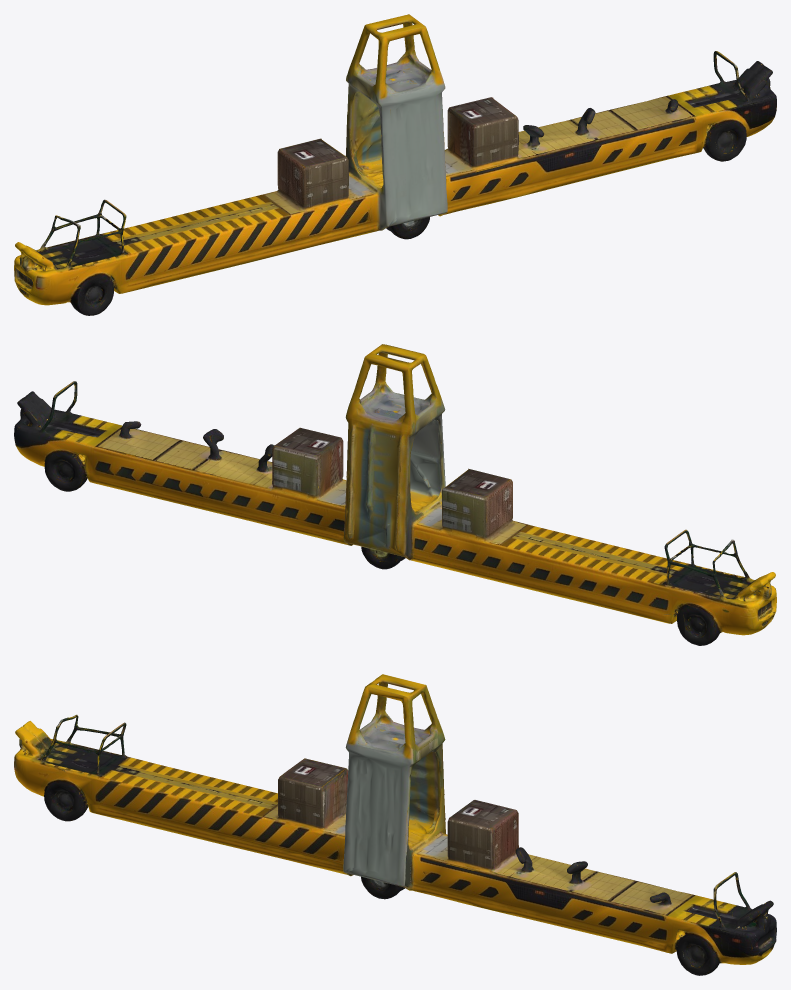
File: station_cargo_bay.repacked.glb
The picture shows the model from 3 angles, top to bottom: view 1: azimuth 30°, elevation 25°; view 2: azimuth 150°, elevation 25°; view 3: azimuth 330°, elevation 25°; orthographic projection.
Parts seen in each view (by area): view 1: Mesh1.0; view 2: Mesh1.0; view 3: Mesh1.0.
Part boxes in pixels (box(x1,y1,x2,y2)): Mesh1.0: box(14, 14, 776, 315); Mesh1.0: box(14, 344, 776, 645); Mesh1.0: box(14, 674, 776, 975).
Size of the model in its own units: 1.91 by 0.4931 by 0.1997.
Materials: 1 (1 with a texture image).
